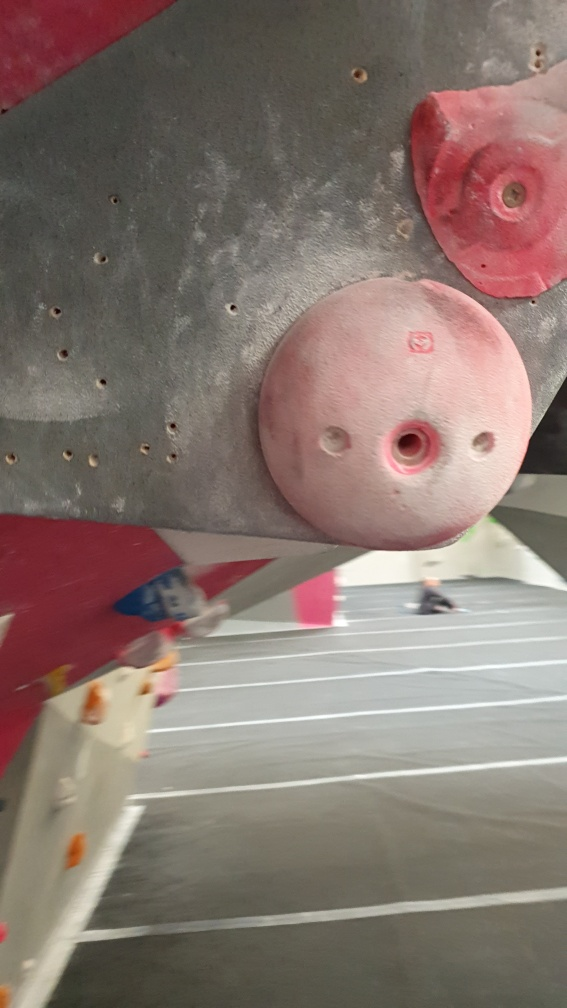Sloper: (254, 268, 534, 556)
